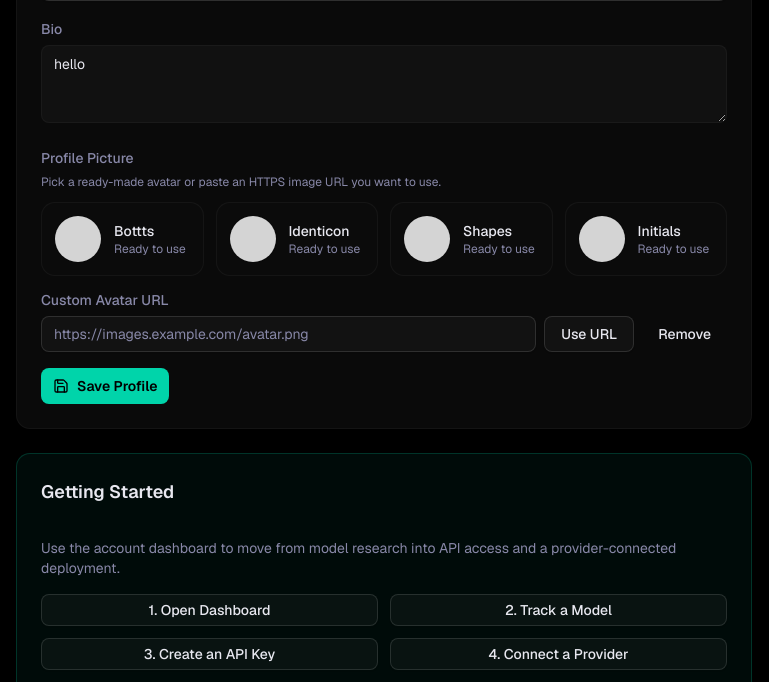
Test case: ProfileContent › rejects insecure custom avatar urls before applying them
(page scrolled)
Type "http://images.example.com/custom-avatar.png" into the field labelled "Custom Avatar URL" at (289, 334), box [41,316,536,352]
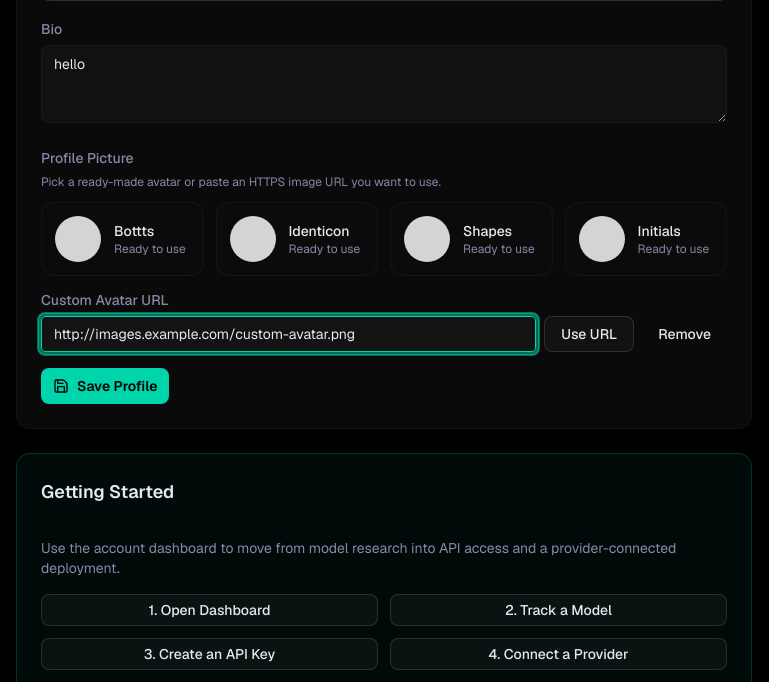
Click the button "Use URL" at (589, 334), box [544,316,634,352]
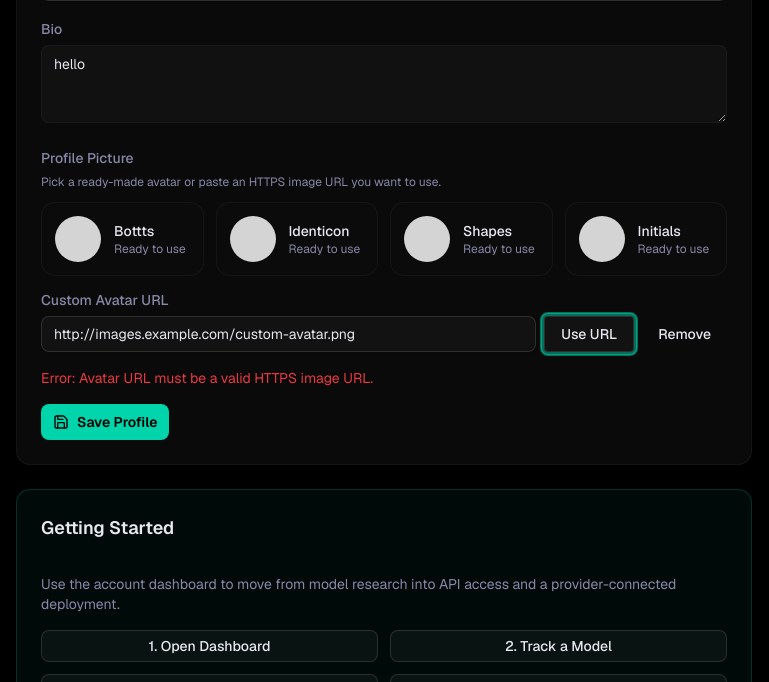
Expected: the text "Error: Avatar URL must be a valid HTTPS image URL." is shown, [41,369,373,387]
